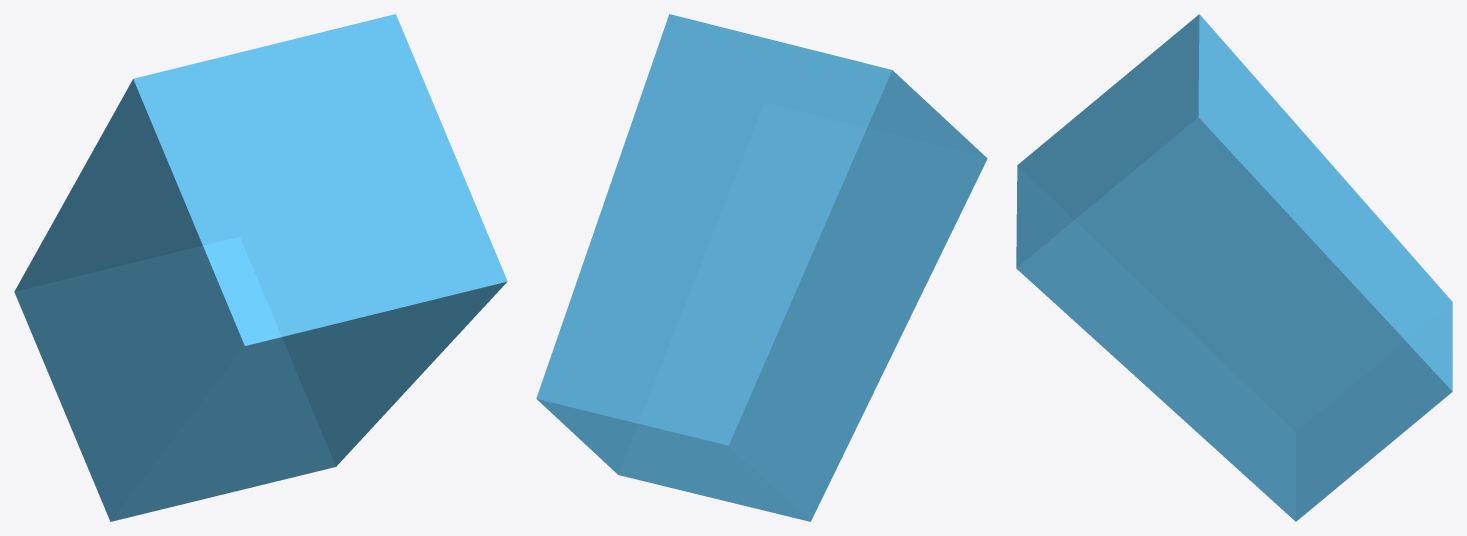
Rendered from Event_420094457_HBrechit_3.fbx.
3 renders of one model, left to right at view 1: azimuth 30°, elevation 25°; view 2: azimuth 150°, elevation 25°; view 3: azimuth 270°, elevation 25°, orthographic. The views are drawn at different scales.
Parts seen in each view (by area): view 1: Model; view 2: Model; view 3: Model.
Part boxes in pixels (left/top/right/bottom): Model: left=14, top=14, right=507, bottom=521; Model: left=536, top=14, right=987, bottom=521; Model: left=1016, top=14, right=1452, bottom=521.
Size of the model in its own units: 0.4659 by 0.8437 by 0.8244.
